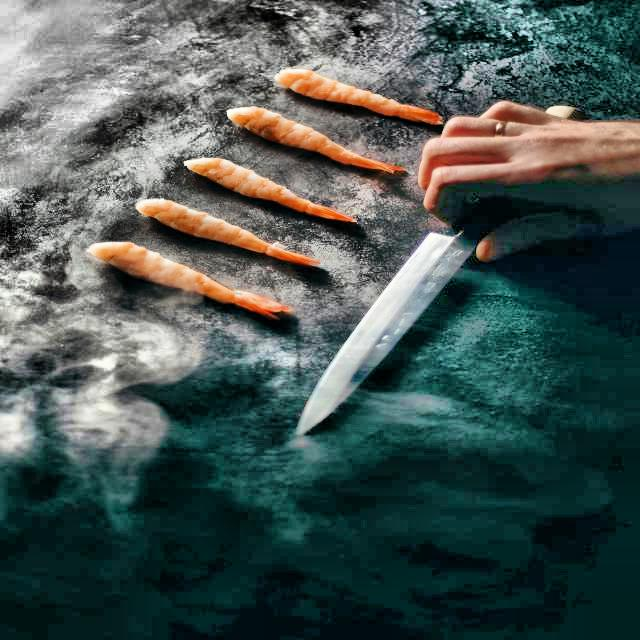knife: (278, 94, 601, 440)
